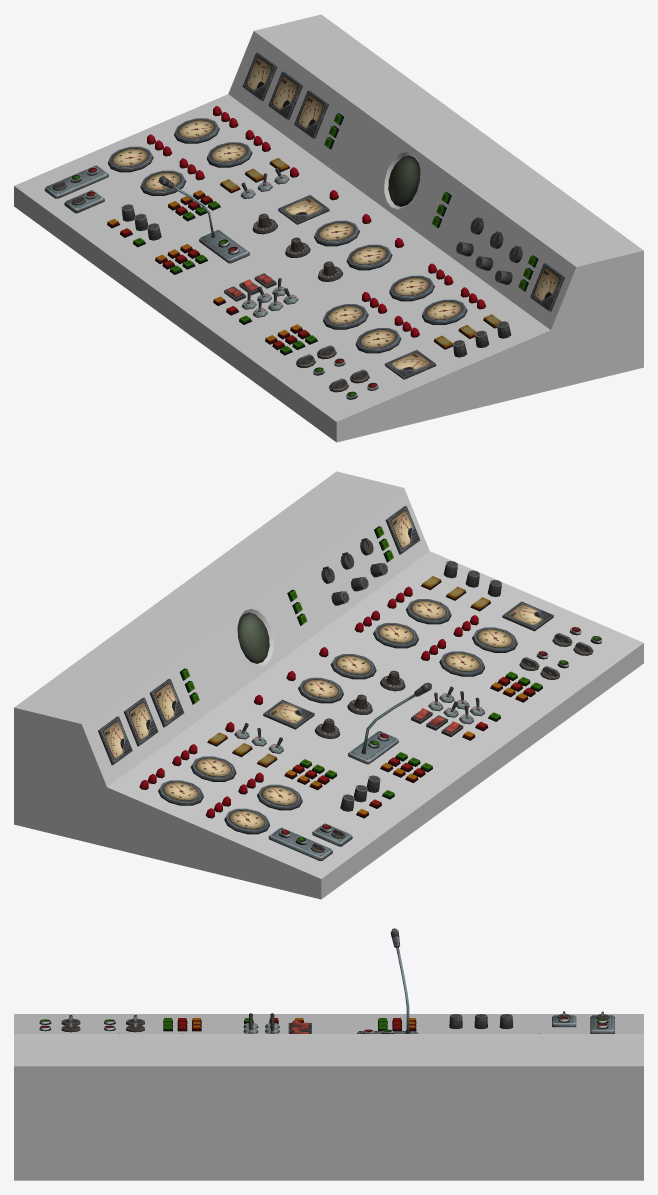
Rendered from ctrlPanel_middle03_B.FBX.
3 views of the same model, one above another, from view 1: azimuth 30°, elevation 25°; view 2: azimuth 150°, elevation 25°; view 3: azimuth 270°, elevation 25° (orthographic). The views are drawn at different scales.
Parts seen in each view (by area): view 1: ctrlPanel_middle03_B, ctrlPanel_gauges, ctrlPanel_buttons, screen_radar; view 2: ctrlPanel_middle03_B, ctrlPanel_gauges, ctrlPanel_buttons, screen_radar; view 3: ctrlPanel_middle03_B, ctrlPanel_buttons.
Part boxes in pixels (bbox=[...]): ctrlPanel_middle03_B: bbox=[14, 14, 643, 442]; ctrlPanel_gauges: bbox=[108, 52, 564, 379]; ctrlPanel_buttons: bbox=[70, 106, 538, 399]; screen_radar: bbox=[388, 155, 420, 206]; ctrlPanel_middle03_B: bbox=[14, 471, 643, 899]; ctrlPanel_gauges: bbox=[98, 505, 553, 834]; ctrlPanel_buttons: bbox=[139, 526, 601, 845]; screen_radar: bbox=[237, 612, 269, 663]; ctrlPanel_middle03_B: bbox=[14, 928, 643, 1180]; ctrlPanel_buttons: bbox=[39, 1017, 608, 1033].
Size of the model in its own units: 110 by 40.36 by 200.
